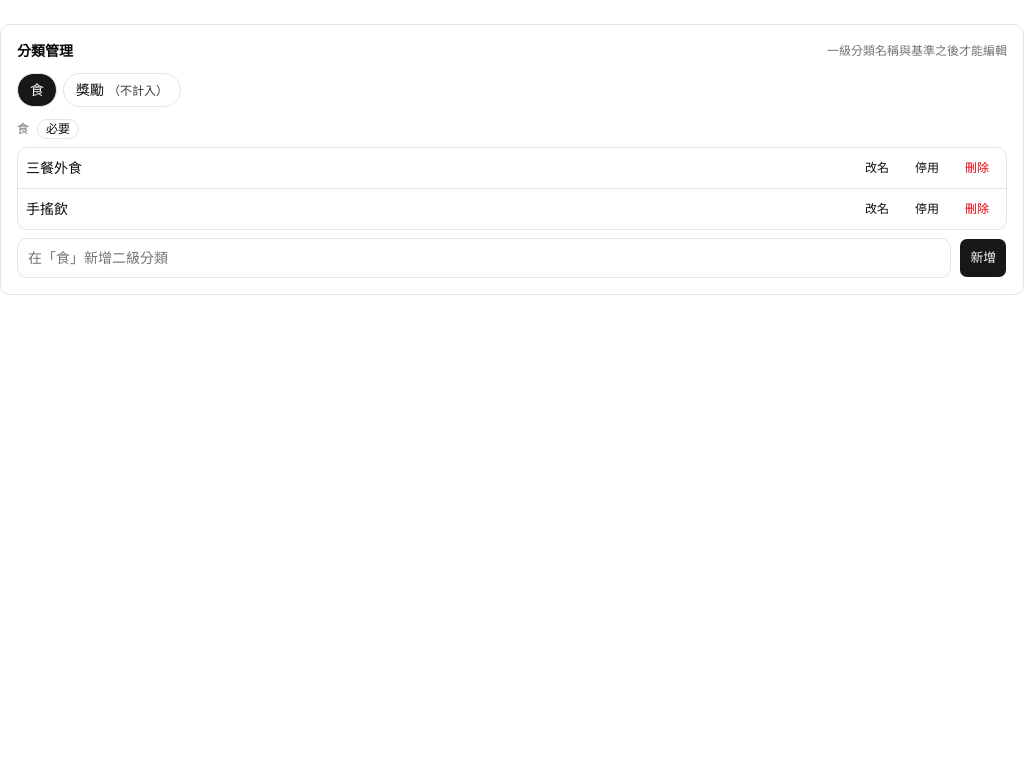
Test: CategoryManager 刪除的兩種結果 › 200（已被花費引用）→ 留在清單改為停用、灰階，提示「此分類已有花費紀錄，已改為停用」
This screenshot has width=1024, height=768.
Expected: the text "三餐外食" is shown, x1=26 y1=160 x2=82 y2=176
Click the button with aria-label "刪除 三餐外食".
click(977, 168)  # box x1=956 y1=156 x2=998 y2=180
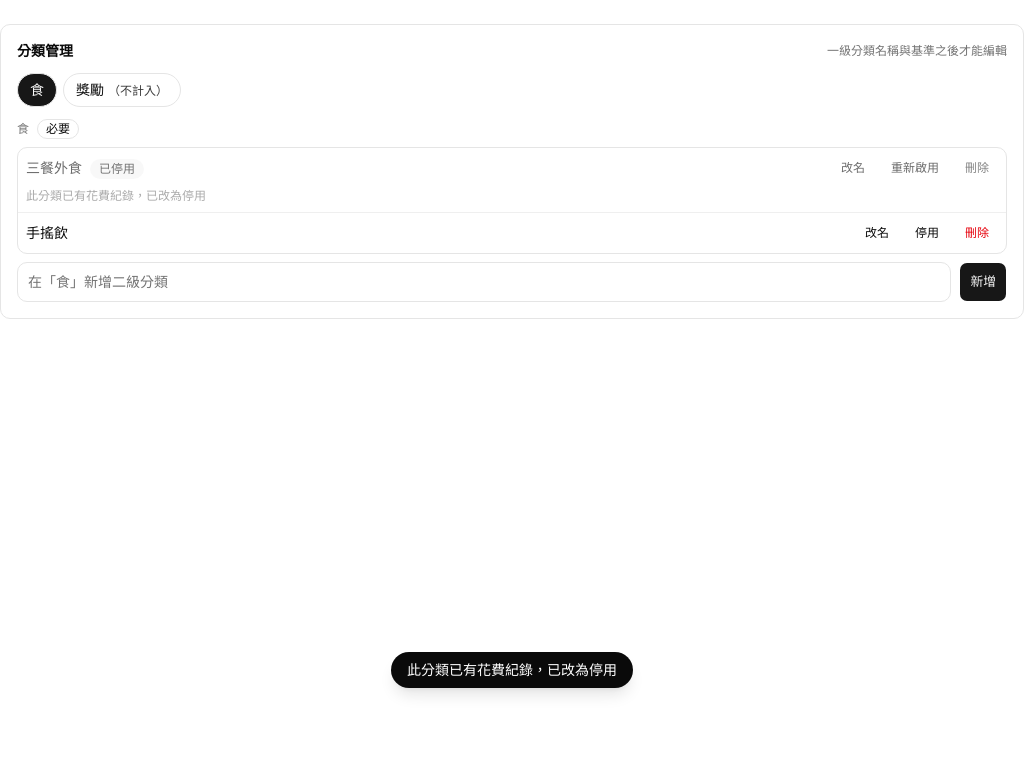
Expected: the message with test id "row-notice" reads "此分類已有花費紀錄，已改為停用", x1=26 y1=189 x2=206 y2=203
Expected: the icon "已停用" is shown, x1=90 y1=158 x2=144 y2=178
Expected: the button with aria-label "重新啟用 三餐外食" is shown, x1=882 y1=156 x2=948 y2=180
